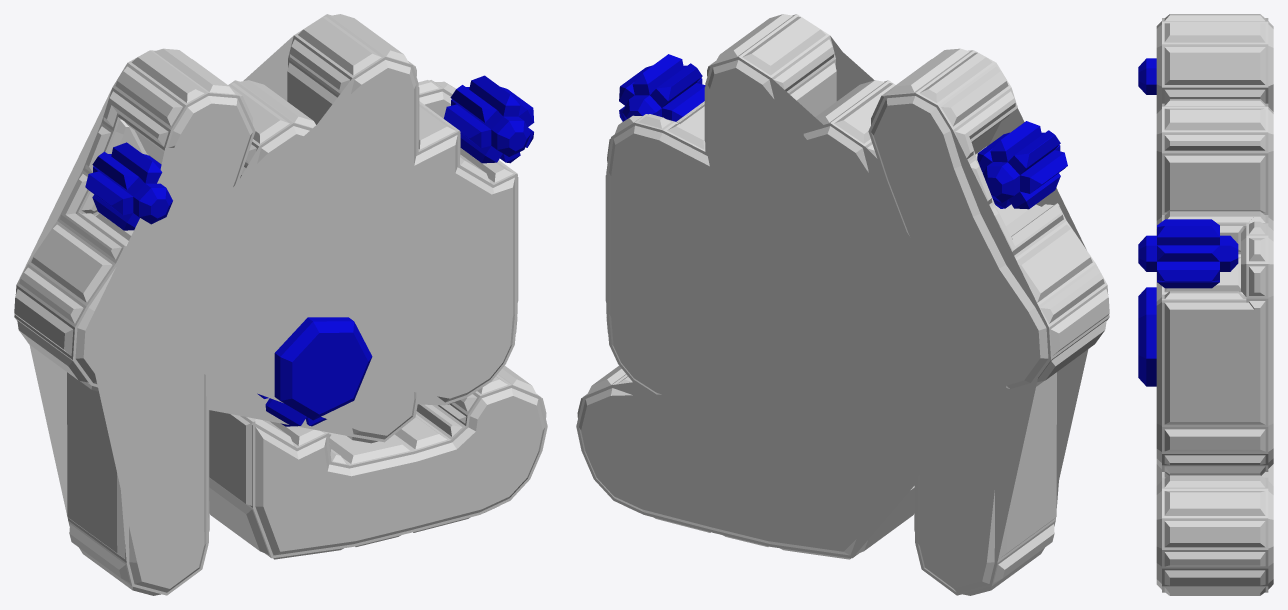
The model's file is Ch_China_他_01.fbx.
The picture shows the model from 3 angles, left to right: view 1: azimuth 30°, elevation 25°; view 2: azimuth 150°, elevation 25°; view 3: azimuth 270°, elevation 25°; orthographic projection. The views are drawn at different scales.
Parts seen in each view (by area): view 1: sphere1; view 2: sphere1; view 3: sphere1.
Boxes of the visible parts, <box> form: sphere1: <box>14,14,547,595</box>; sphere1: <box>576,14,1109,595</box>; sphere1: <box>1138,14,1273,595</box>.
Bounding box in the file's own units: 0.9518 × 0.9372 × 0.2541.
